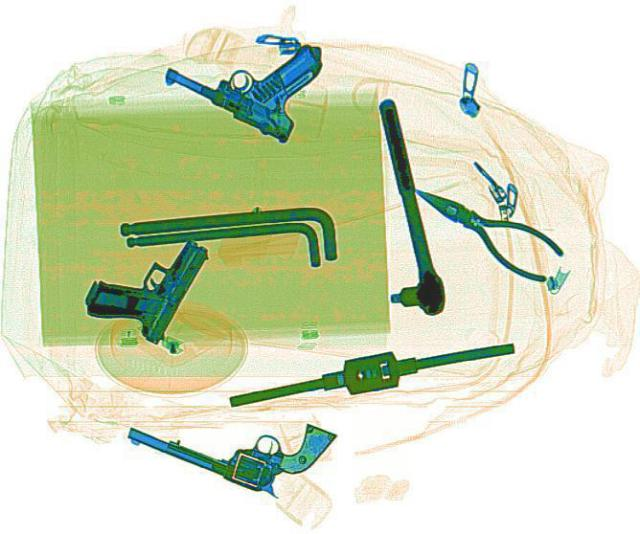Gun: (118, 368, 336, 503), (154, 0, 349, 142), (72, 217, 212, 343)
Pliers: (396, 172, 574, 284)
